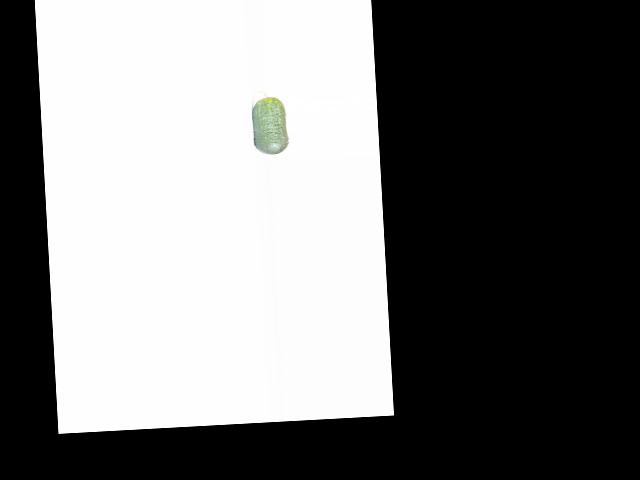cucumber: (250, 89, 289, 155)
